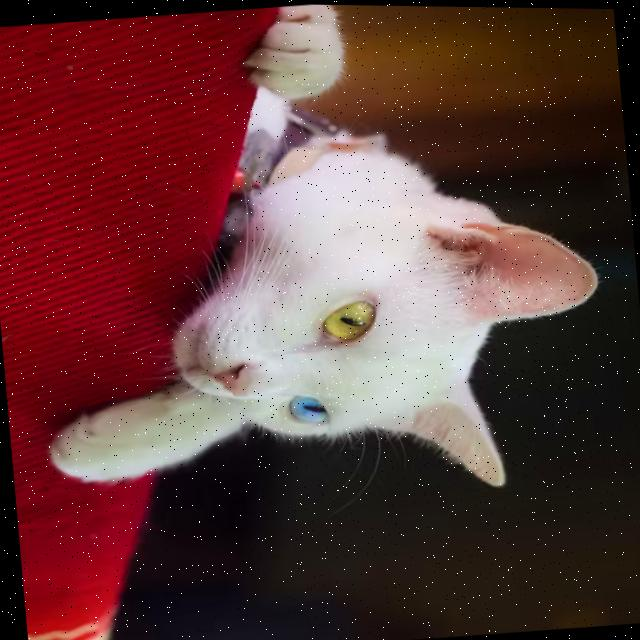Khao Manee: (4, 0, 626, 531)
